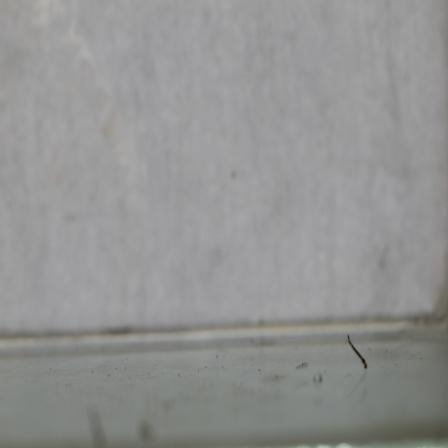Jentik-Nyamuk: (344, 331, 372, 373)
